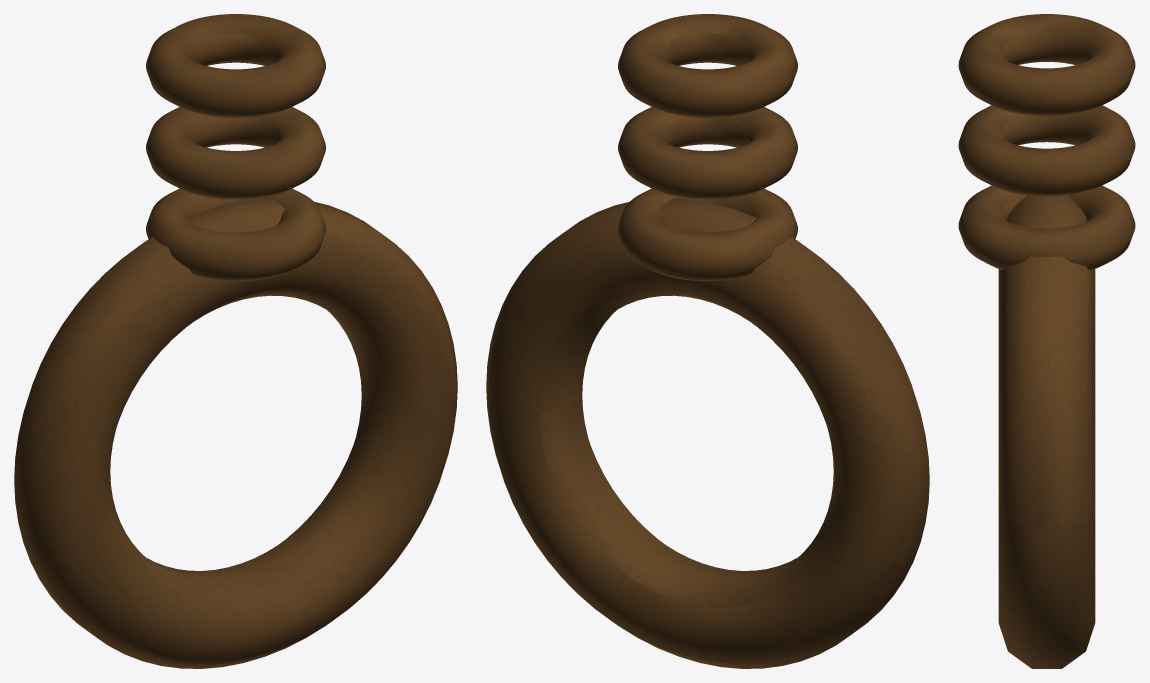
File: hoist.r02.rope.eye.glb
The picture shows the model from 3 angles, left to right: view 1: azimuth 30°, elevation 25°; view 2: azimuth 150°, elevation 25°; view 3: azimuth 270°, elevation 25°; orthographic projection.
Visible parts, largest first — view 1: hoist.r02.rope.eye; view 2: hoist.r02.rope.eye; view 3: hoist.r02.rope.eye.
Part boxes in pixels (bbox=[...]): hoist.r02.rope.eye: bbox=[14, 14, 457, 668]; hoist.r02.rope.eye: bbox=[486, 14, 929, 668]; hoist.r02.rope.eye: bbox=[958, 14, 1135, 668].
Bounding box in the file's own units: 0.1208 × 0.1651 × 0.044.
Materials: 1 (1 with a texture image).
